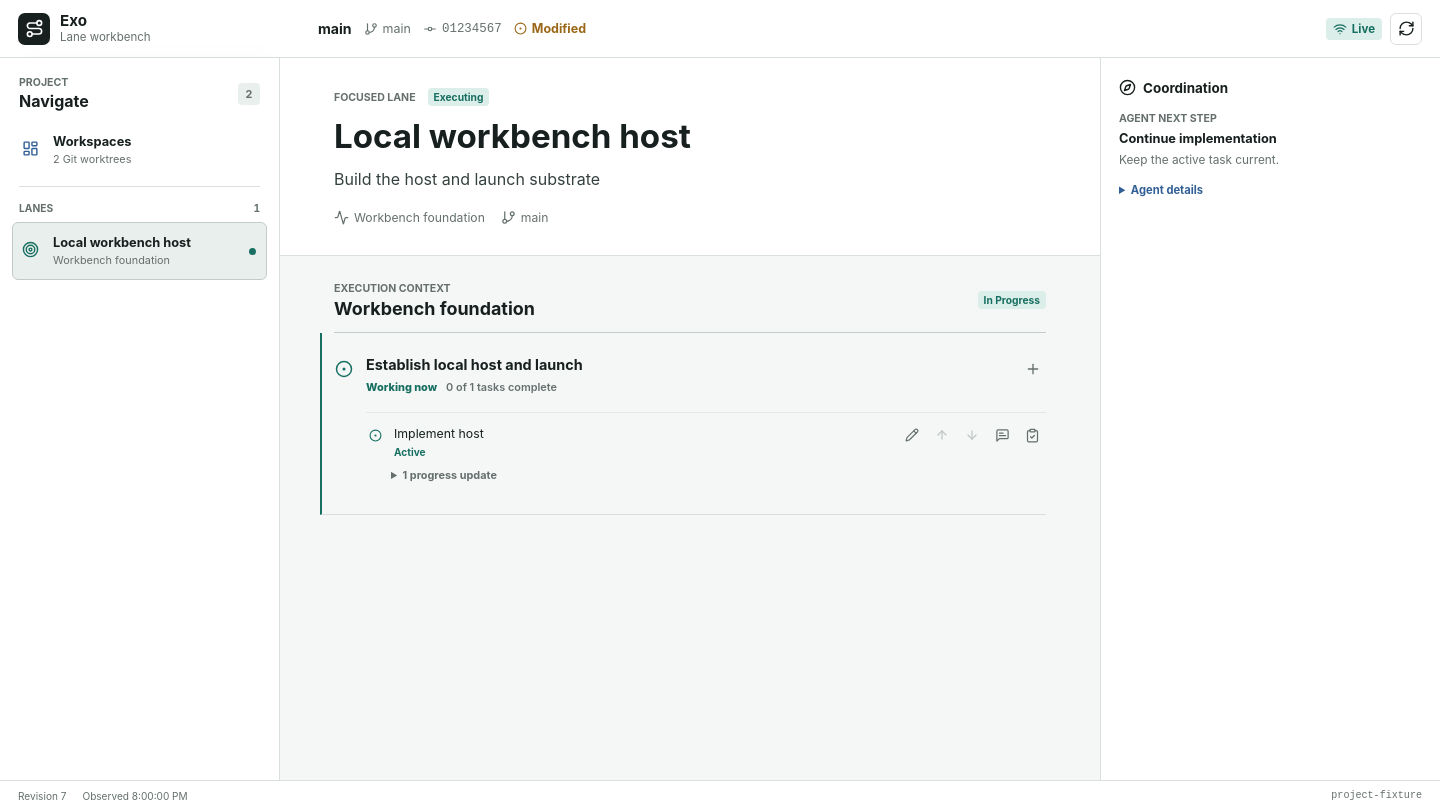
Test: cockpit page › reviews and approves an exact task outcome with distinct bound request IDs
Expected: the heading "Local workbench host" is shown, [334,116,691,156]
Click the button named "Review completion of Implement host" at (1032, 435), box [1018,421,1046,449]
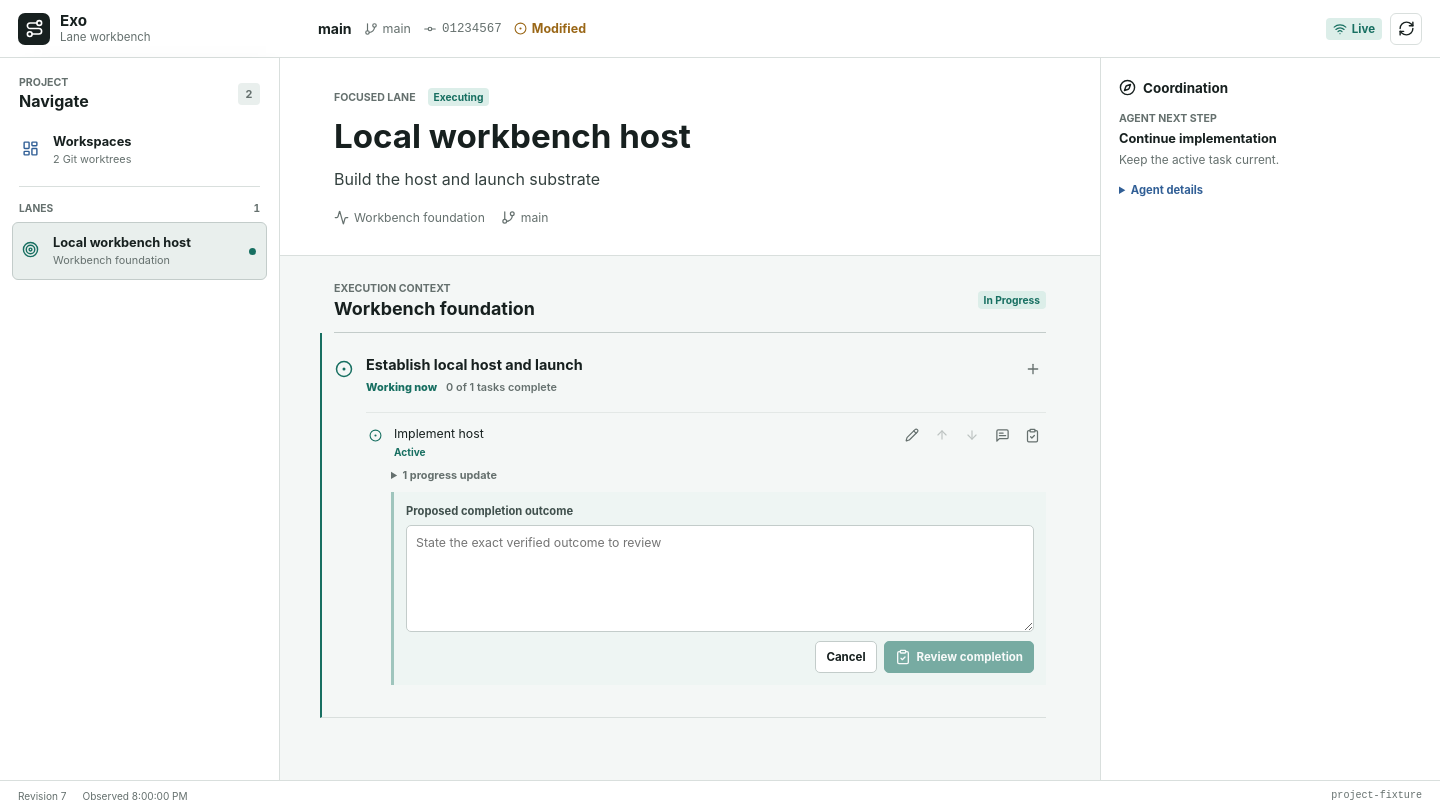
Type "Implemented the exact local host contract." into the text box labelled "Proposed completion outcome" at (720, 579), box [406,525,1034,632]
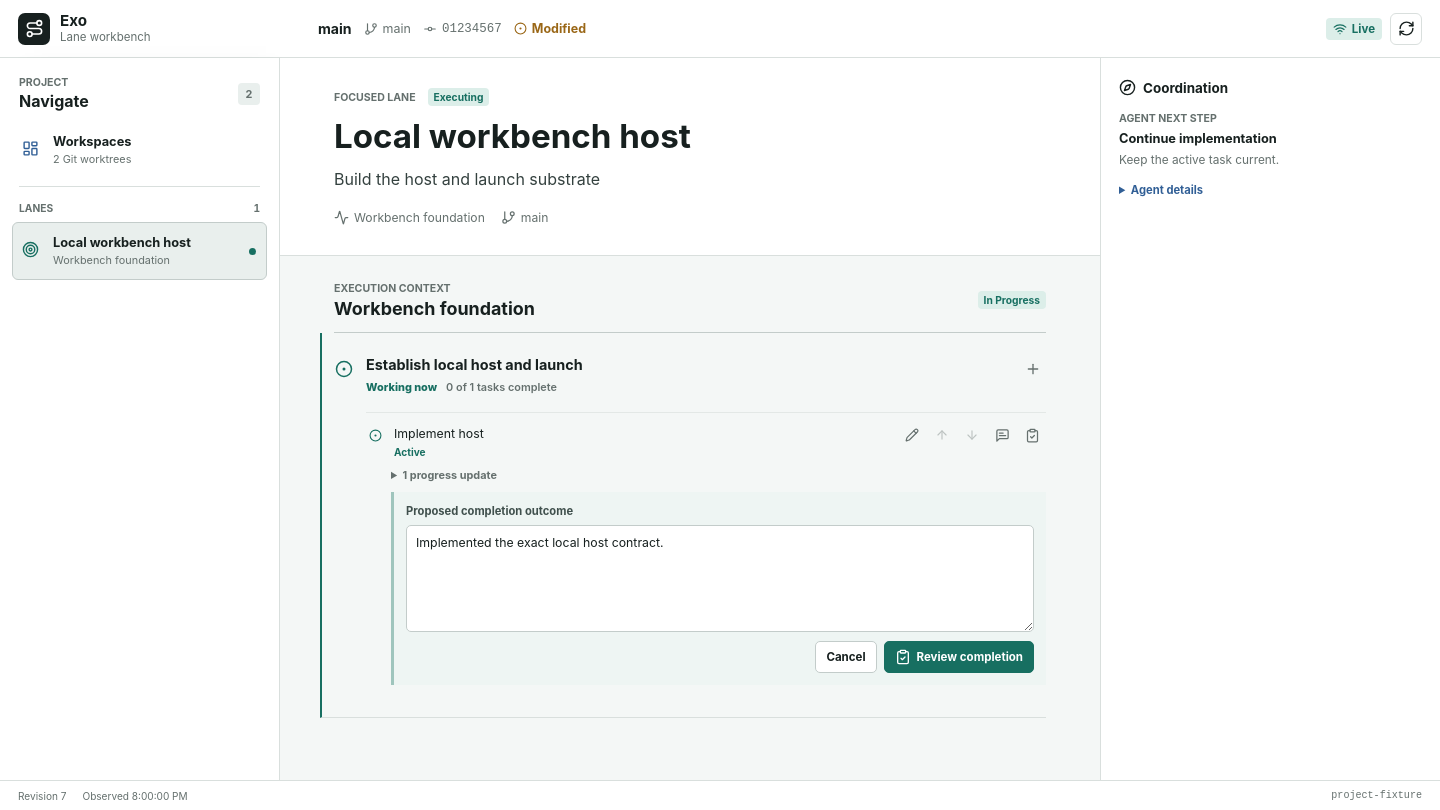
Click the button "Review completion" at (959, 657), box [884,641,1034,673]
(page scrolled)
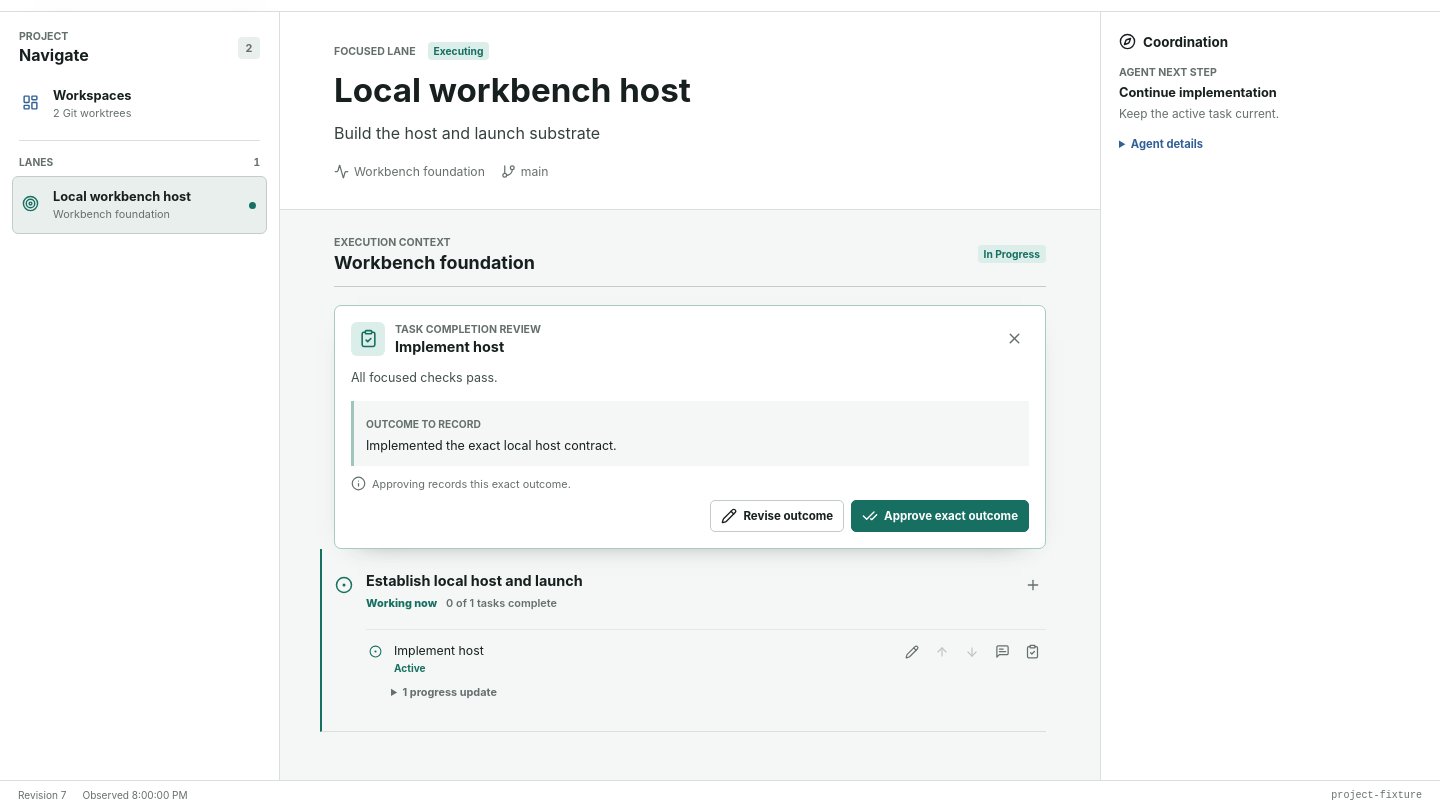
Expected: the text "Implemented the exact local host contract." is shown, [366,438,617,453]
Click the button "Approve exact outcome" at (940, 516), box [851,500,1029,532]
(page scrolled)
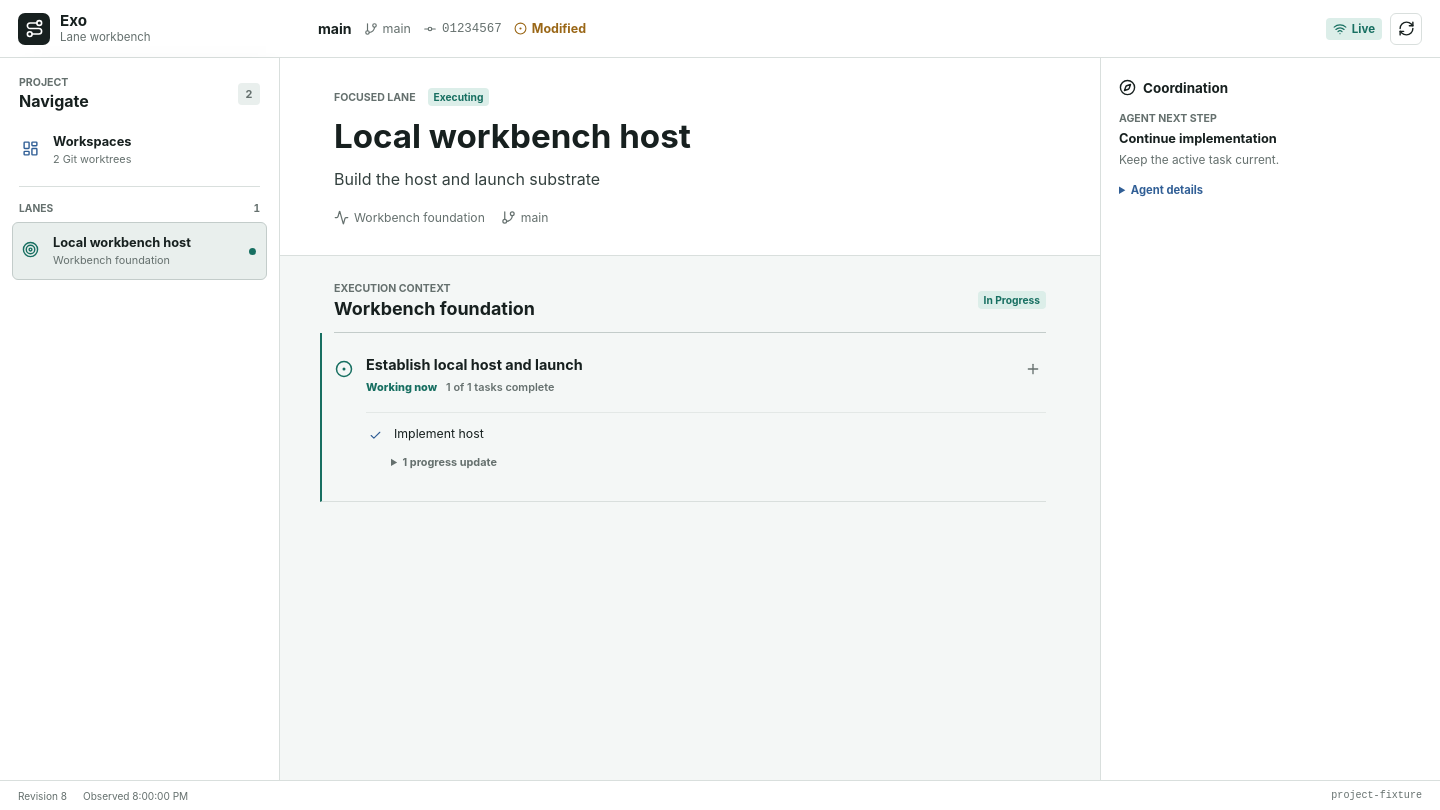
Expected: the text "Revision 8" is shown, [18,790,67,802]
